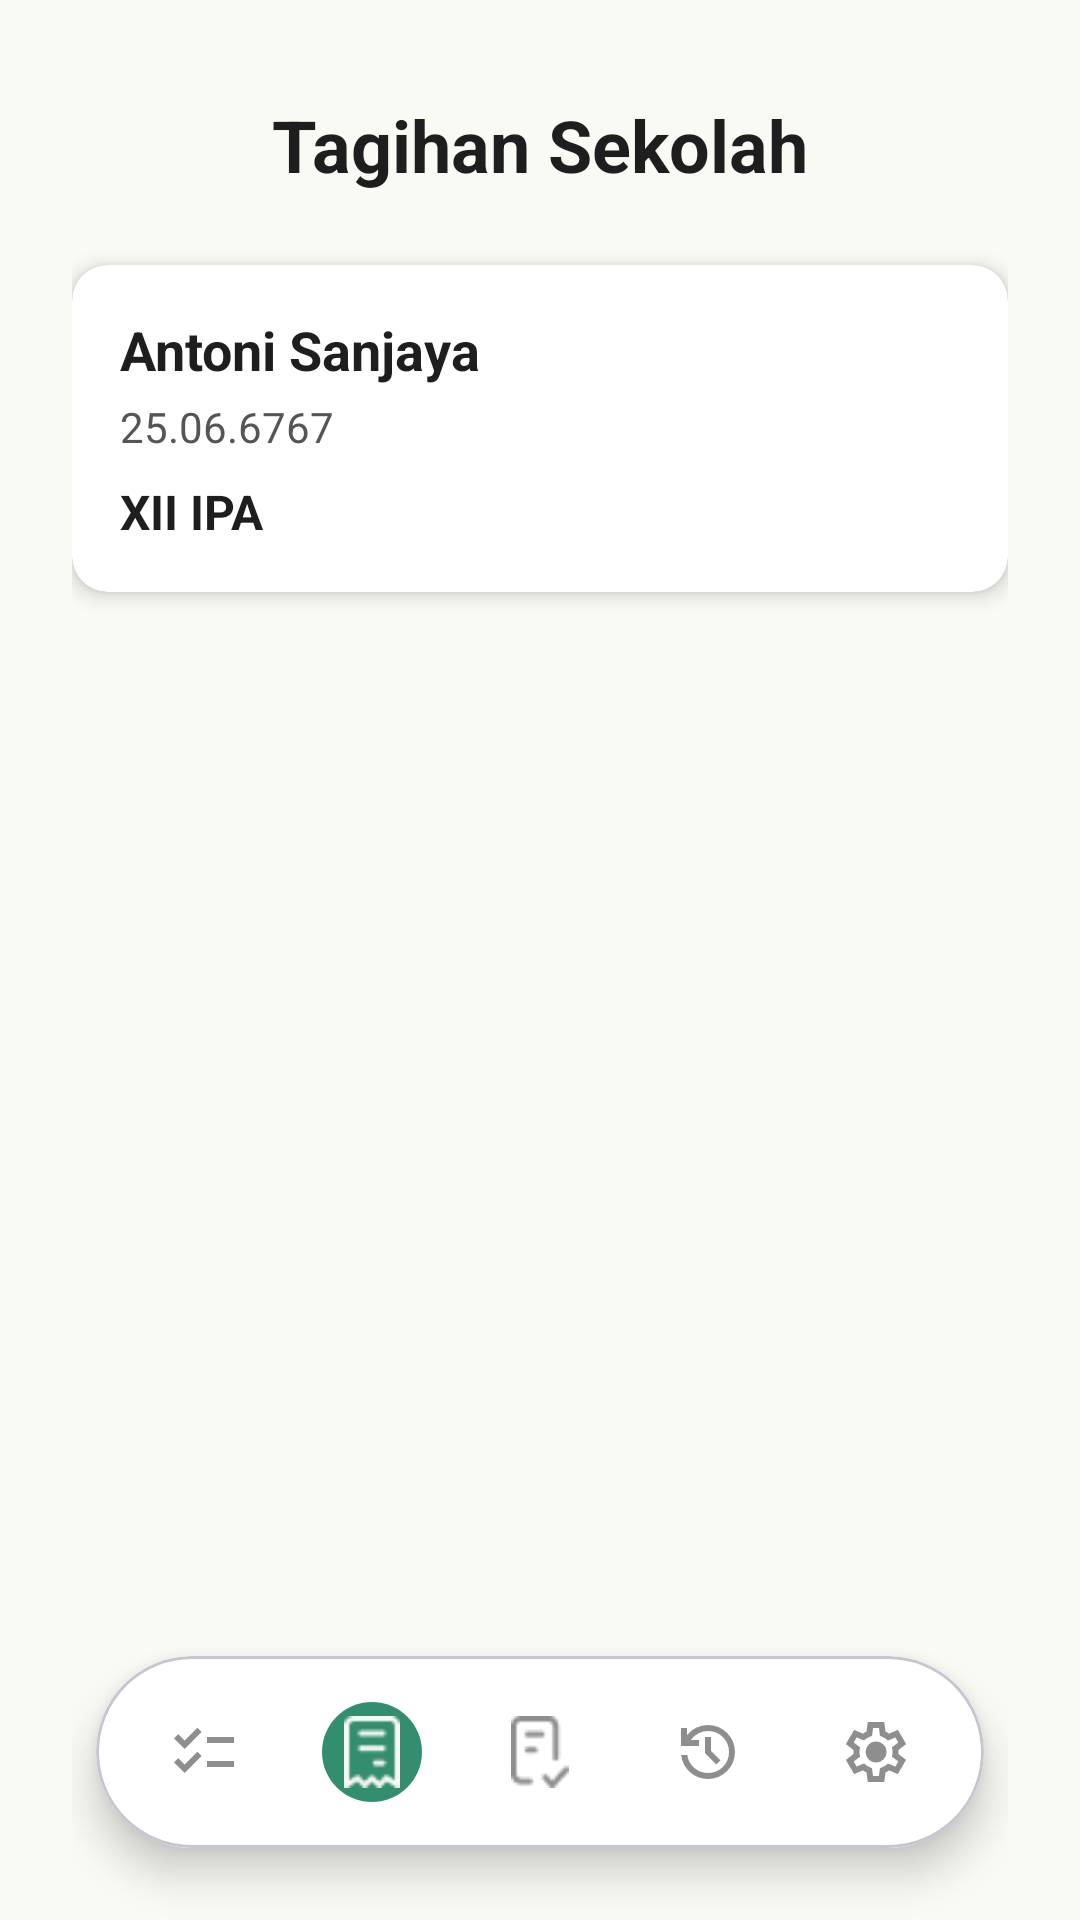

Icons on this 1080*1920 Android screen, each with the point to tap as (x=x, y=y):
History: (x=708, y=1752)
Pembayaran: (x=540, y=1752)
Rincian Tagihan: (x=372, y=1752)
Settings: (x=876, y=1752)
